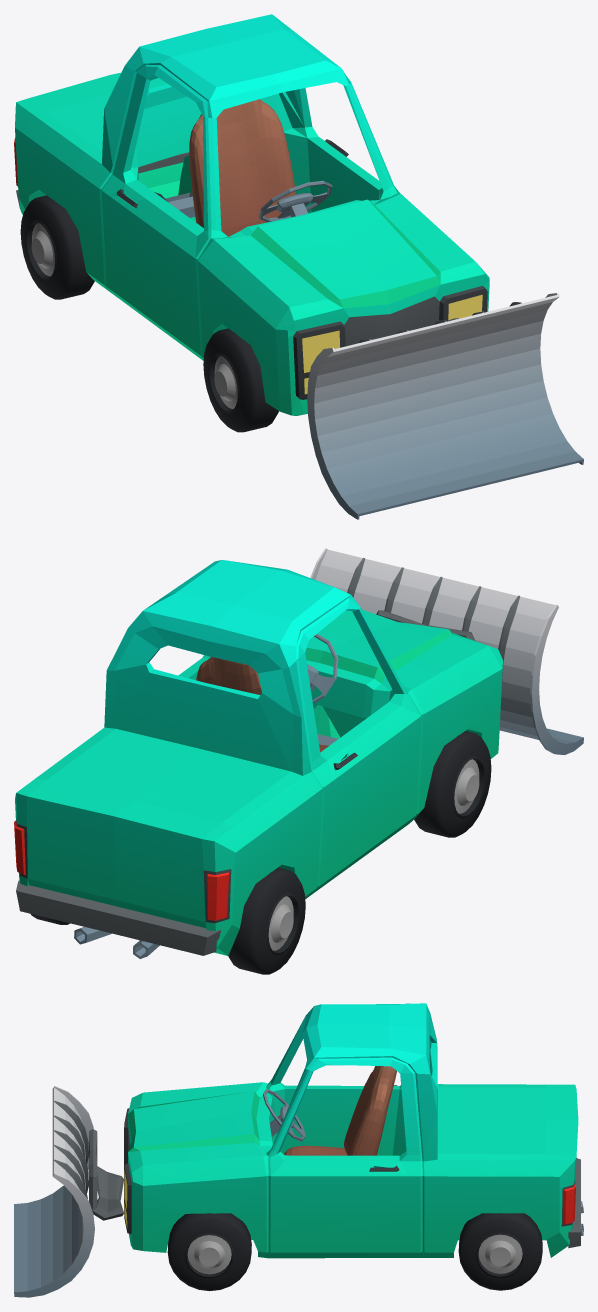
The model's file is Shoveler_Car.fbx.
3 renders of one model, top to bottom at view 1: azimuth 30°, elevation 25°; view 2: azimuth 150°, elevation 25°; view 3: azimuth 270°, elevation 25°, orthographic. The views are drawn at different scales.
Parts seen in each view (by area): view 1: Car.001, Shoveler.001, Wheel.004, Wheel.006; view 2: Car.001, Shoveler.001, Wheel.004, Wheel.006; view 3: Car.001, Shoveler.001, Wheel.005, Wheel.007.
Boxes of the visible parts, x1,y1,x2,y2 form: Car.001: [14, 14, 489, 415]; Shoveler.001: [307, 293, 583, 519]; Wheel.004: [20, 195, 94, 299]; Wheel.006: [203, 328, 278, 432]; Car.001: [14, 560, 502, 958]; Shoveler.001: [310, 548, 583, 754]; Wheel.004: [228, 867, 305, 974]; Wheel.006: [414, 731, 491, 837]; Car.001: [89, 1003, 583, 1258]; Shoveler.001: [14, 1086, 94, 1297]; Wheel.005: [167, 1213, 251, 1291]; Wheel.007: [458, 1213, 542, 1290].
Bounding box in the file's own units: 197 × 219 × 502.
